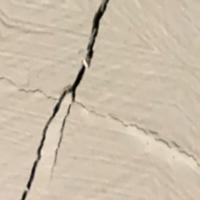crack: (18, 0, 107, 199)
